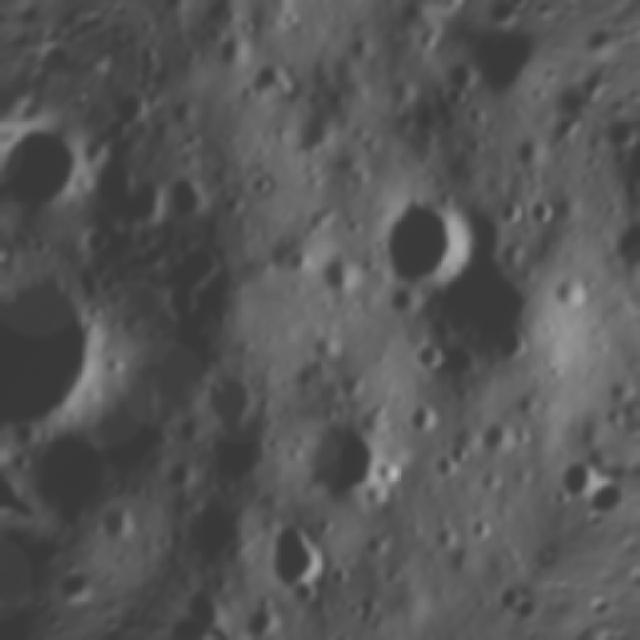crater: (0, 248, 137, 474), (348, 181, 492, 336), (162, 358, 300, 496), (234, 503, 349, 615), (288, 416, 401, 524), (12, 137, 102, 237), (155, 163, 227, 234), (86, 498, 152, 560), (546, 449, 605, 511), (281, 634, 350, 640)
